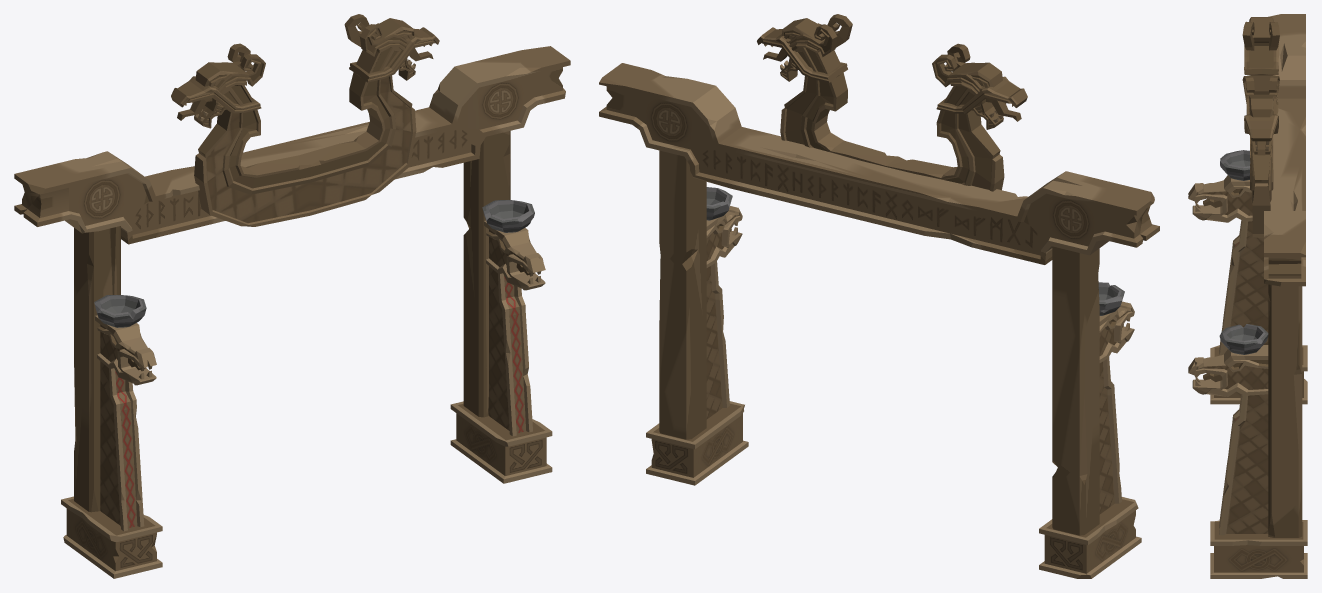
The model's file is SM_Bld_Arch_01.fbx.
The picture shows the model from 3 angles, left to right: view 1: azimuth 30°, elevation 25°; view 2: azimuth 150°, elevation 25°; view 3: azimuth 270°, elevation 25°; orthographic projection. The views are drawn at different scales.
Visible parts, largest first — view 1: SM_Bld_Arch_01; view 2: SM_Bld_Arch_01; view 3: SM_Bld_Arch_01.
Boxes of the visible parts, box(x1,y1,x2,y2) form: SM_Bld_Arch_01: box(14, 14, 570, 578); SM_Bld_Arch_01: box(599, 14, 1159, 578); SM_Bld_Arch_01: box(1188, 14, 1307, 578).
Bounding box in the file's own units: 782 × 657 × 165.
